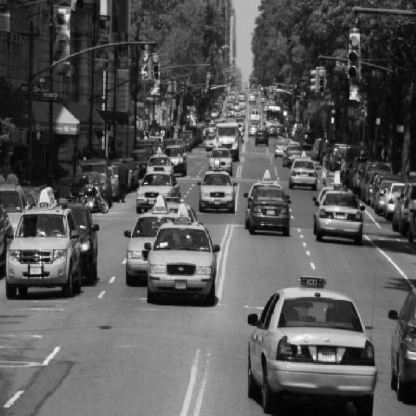car: (246, 284, 380, 416), (8, 200, 86, 304), (147, 222, 217, 308), (125, 210, 188, 285), (311, 190, 369, 242), (134, 167, 184, 214), (248, 190, 294, 237), (199, 171, 238, 216)
